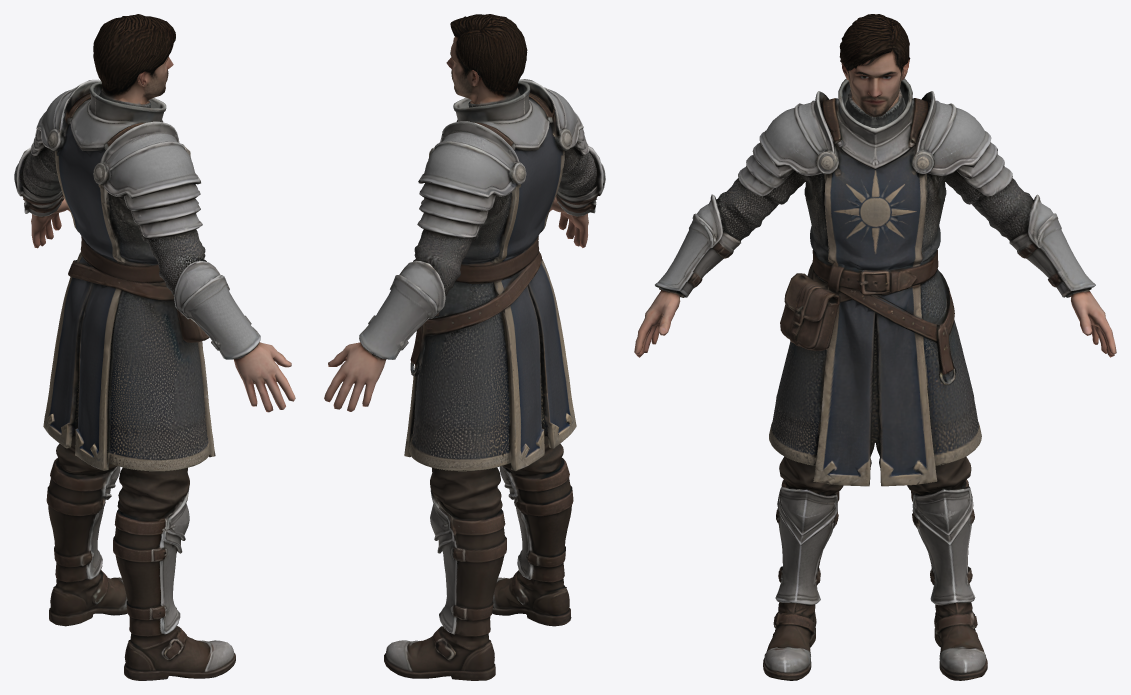
The model's file is aydor_0_tripo.glb.
3 renders of one model, left to right at view 1: azimuth 30°, elevation 25°; view 2: azimuth 150°, elevation 25°; view 3: azimuth 270°, elevation 25°, orthographic.
Parts seen in each view (by area): view 1: tripo_node_18239a84-7418-41d6-b3c3-2e95053303e0; view 2: tripo_node_18239a84-7418-41d6-b3c3-2e95053303e0; view 3: tripo_node_18239a84-7418-41d6-b3c3-2e95053303e0.
Part boxes in pixels (left/top/right/bottom): tripo_node_18239a84-7418-41d6-b3c3-2e95053303e0: left=14, top=14, right=295, bottom=680; tripo_node_18239a84-7418-41d6-b3c3-2e95053303e0: left=324, top=14, right=605, bottom=680; tripo_node_18239a84-7418-41d6-b3c3-2e95053303e0: left=634, top=14, right=1116, bottom=680.
Bounding box in the file's own units: 0.3748 × 1.85 × 1.27.
1 material, 1 textured.
